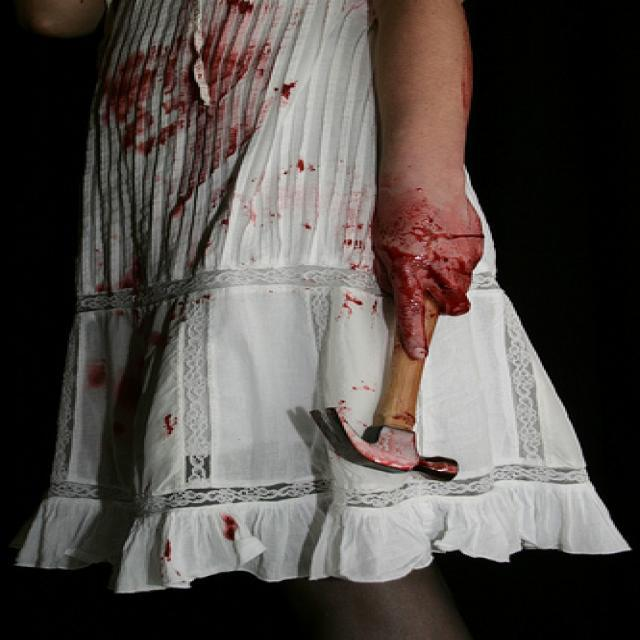hammer: (308, 211, 462, 486)
